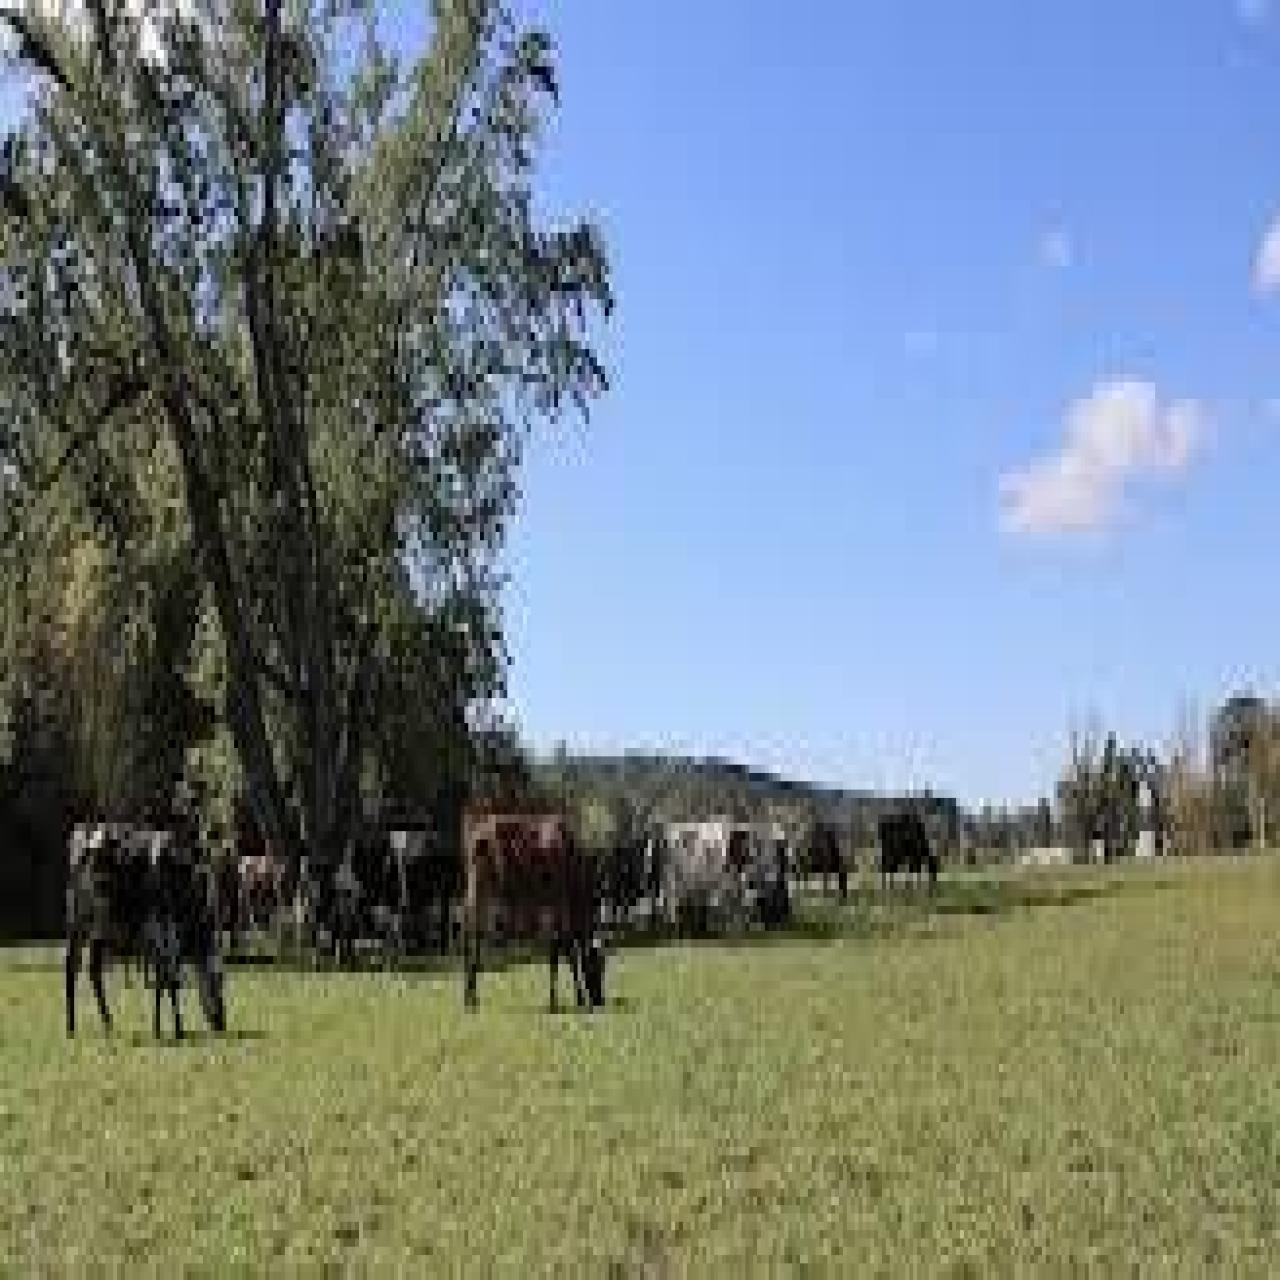cow: (64, 823, 232, 1047), (458, 790, 614, 1014), (641, 810, 740, 934), (388, 823, 470, 972), (874, 802, 948, 910)
